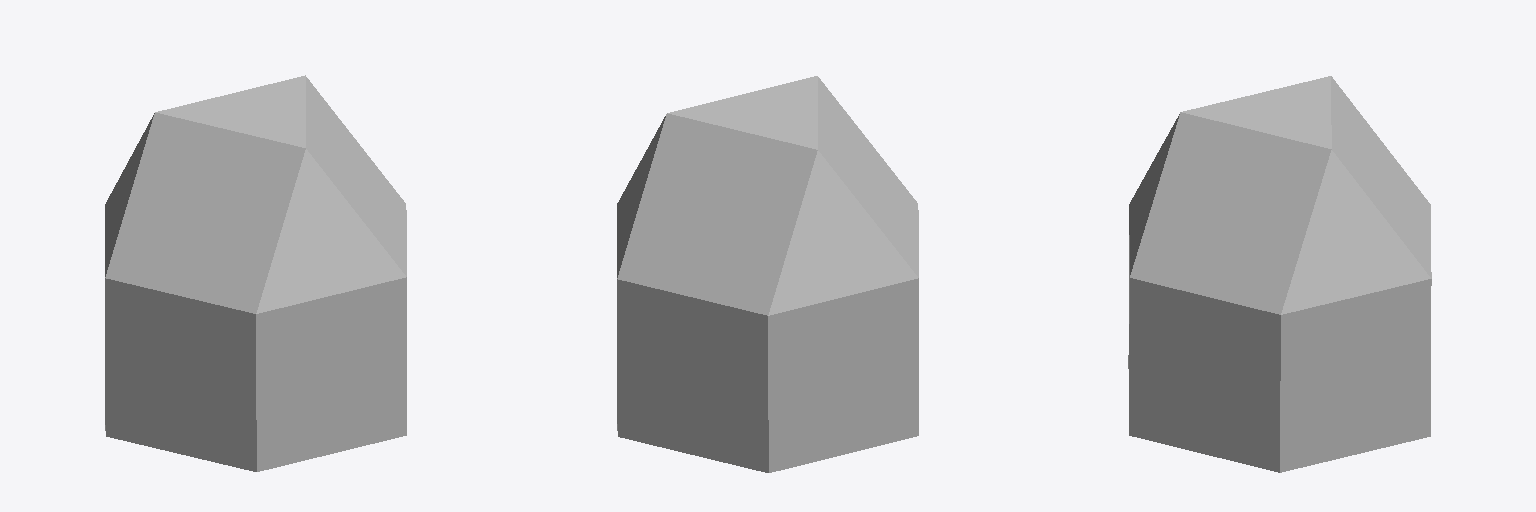
The model's file is ElongatedTriangularCupola.obj.
3 renders of one model, left to right at view 1: azimuth 30°, elevation 25°; view 2: azimuth 150°, elevation 25°; view 3: azimuth 270°, elevation 25°, orthographic.
Parts seen in each view (by area): view 1: ElongatedTriangularCupola; view 2: ElongatedTriangularCupola; view 3: ElongatedTriangularCupola.
Part boxes in pixels (x1,y1,x2,y2): ElongatedTriangularCupola: (105, 75, 406, 471); ElongatedTriangularCupola: (617, 76, 918, 472); ElongatedTriangularCupola: (1128, 76, 1431, 472).
Size of the model in its own units: 1.5 by 1.37 by 1.3.